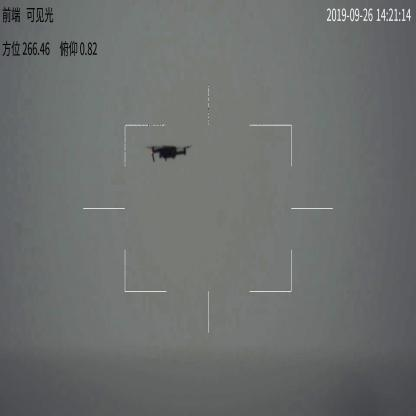uav: (143, 141, 195, 164)
